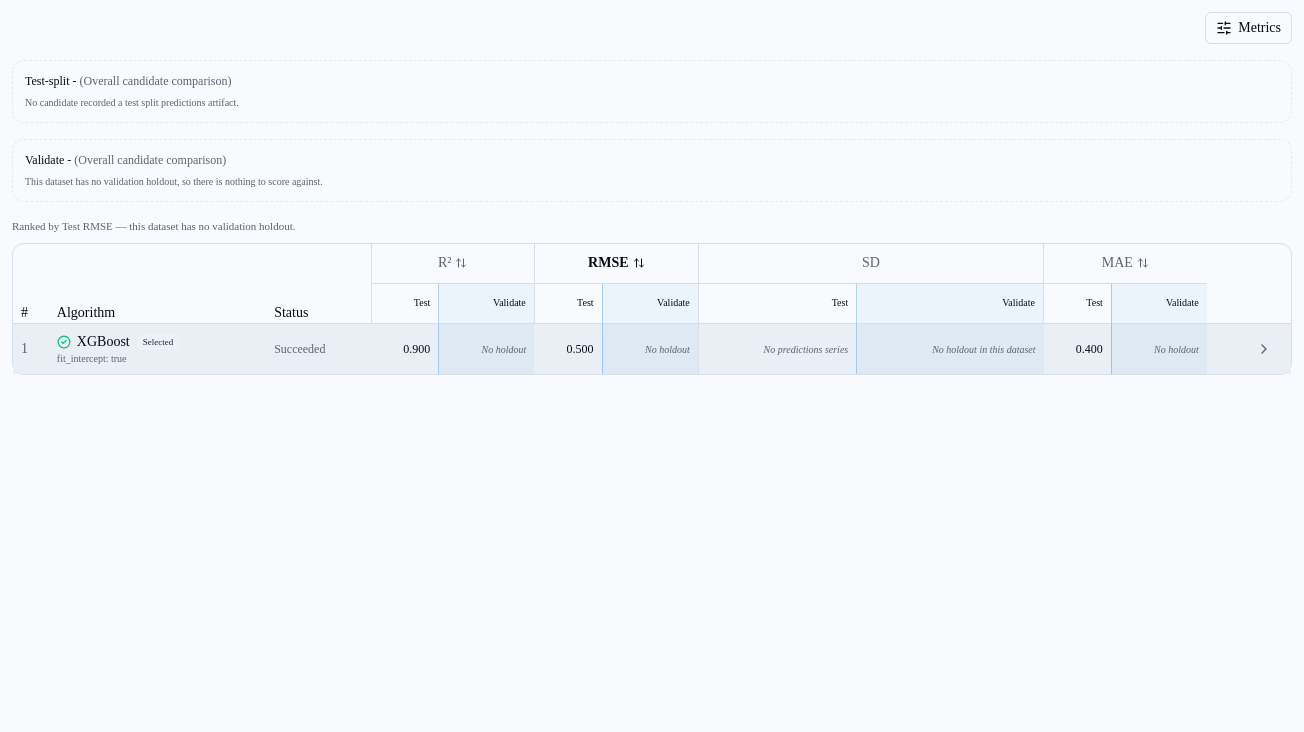
Test: Phase4ModelSelection (MODEL-FLOW-013) › renders mode A (a real chart) for a run with lossHistory, labelling the second series "Test split"
MODEL-FLOW-019-T06. Reveal this row's charts — hidden by default.
Click the button named "show charts" at (1264, 349), box [1245,335,1283,363]
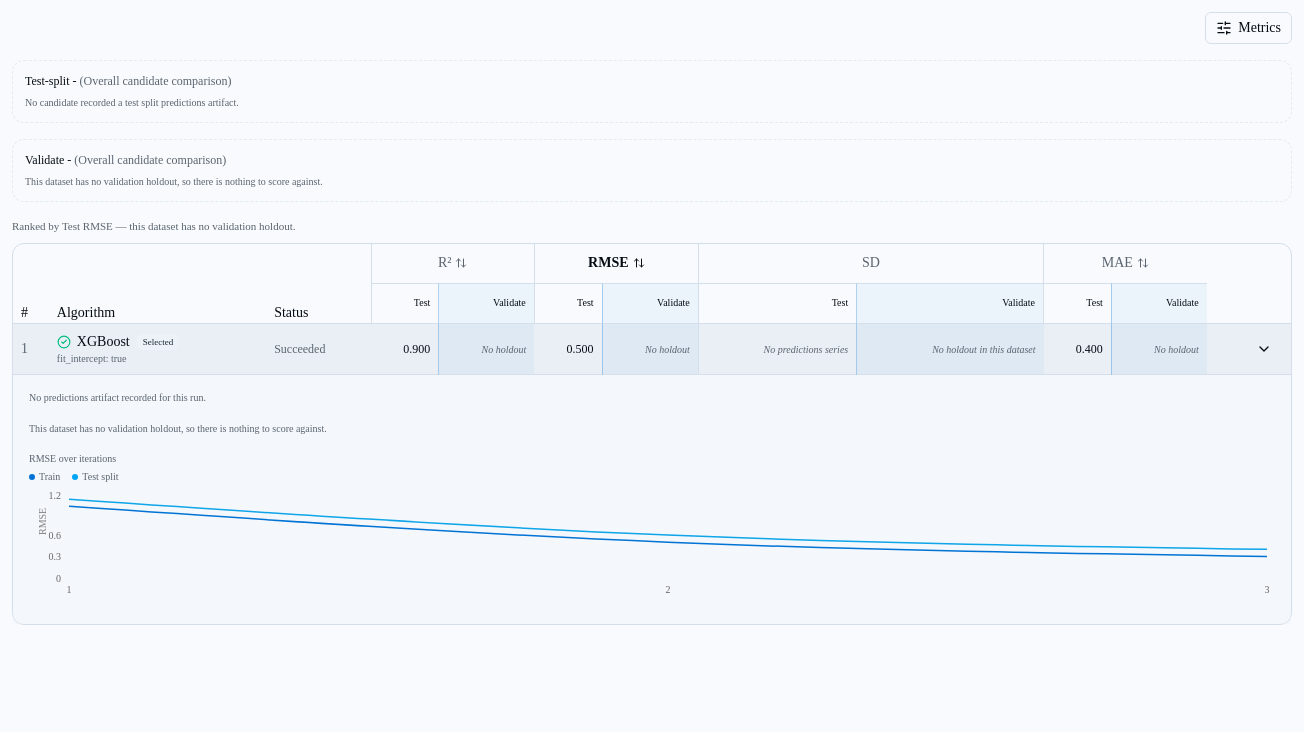
Check: the 1st icon is shown, box [1216,20,1232,36]
Check: the text "Test split" is shown, box [72,470,119,484]
